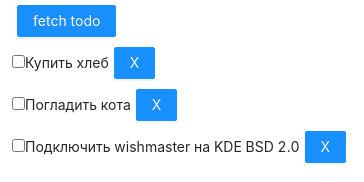
Test: todo test › should delete last 2 tasks
This screenshot has width=364, height=182.
What coordinates should you click on to do the following:
click the button "X" next to "Подключить wishmaster на KDE BSD 2.0"
I would click on:
 (326, 147)
Its box is [305,131,347,163].
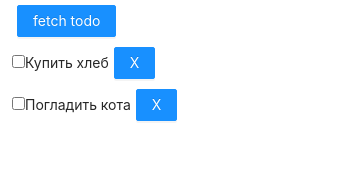
Expected: the number of elements with class "todo" is 2, [12,47,155,79]; [12,89,177,121]
What coordinates should you click on to do the following:
click the button "X" next to "Погладить кота"
I would click on:
 (157, 105)
Its box is [136,89,178,121].
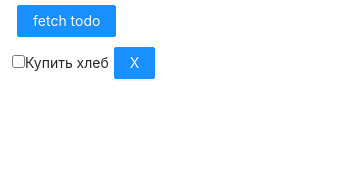
Expected: the number of elements with class "todo" is 1, [12,47,155,79]
